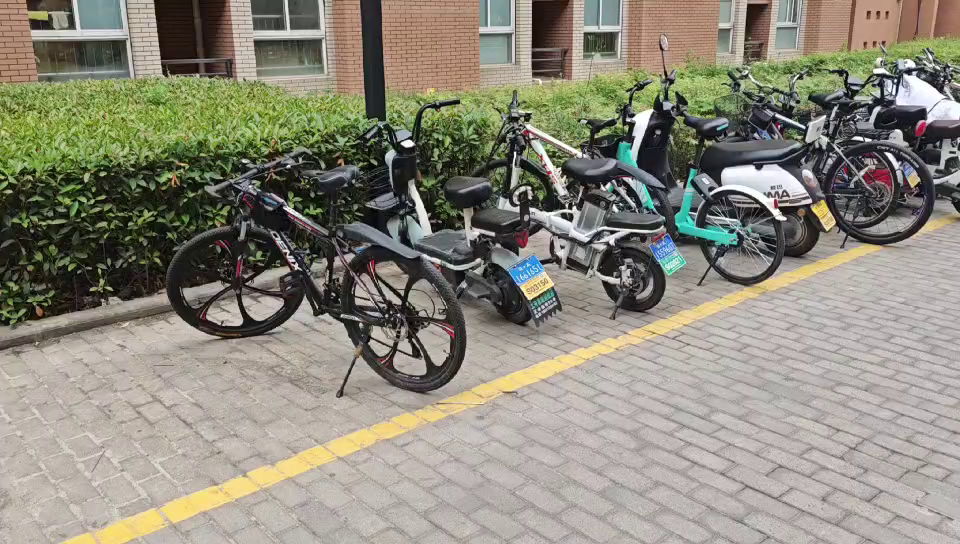others: (181, 147, 464, 403), (334, 107, 556, 338), (475, 102, 658, 314)
shared_bike_qingcong: (591, 69, 786, 296)
